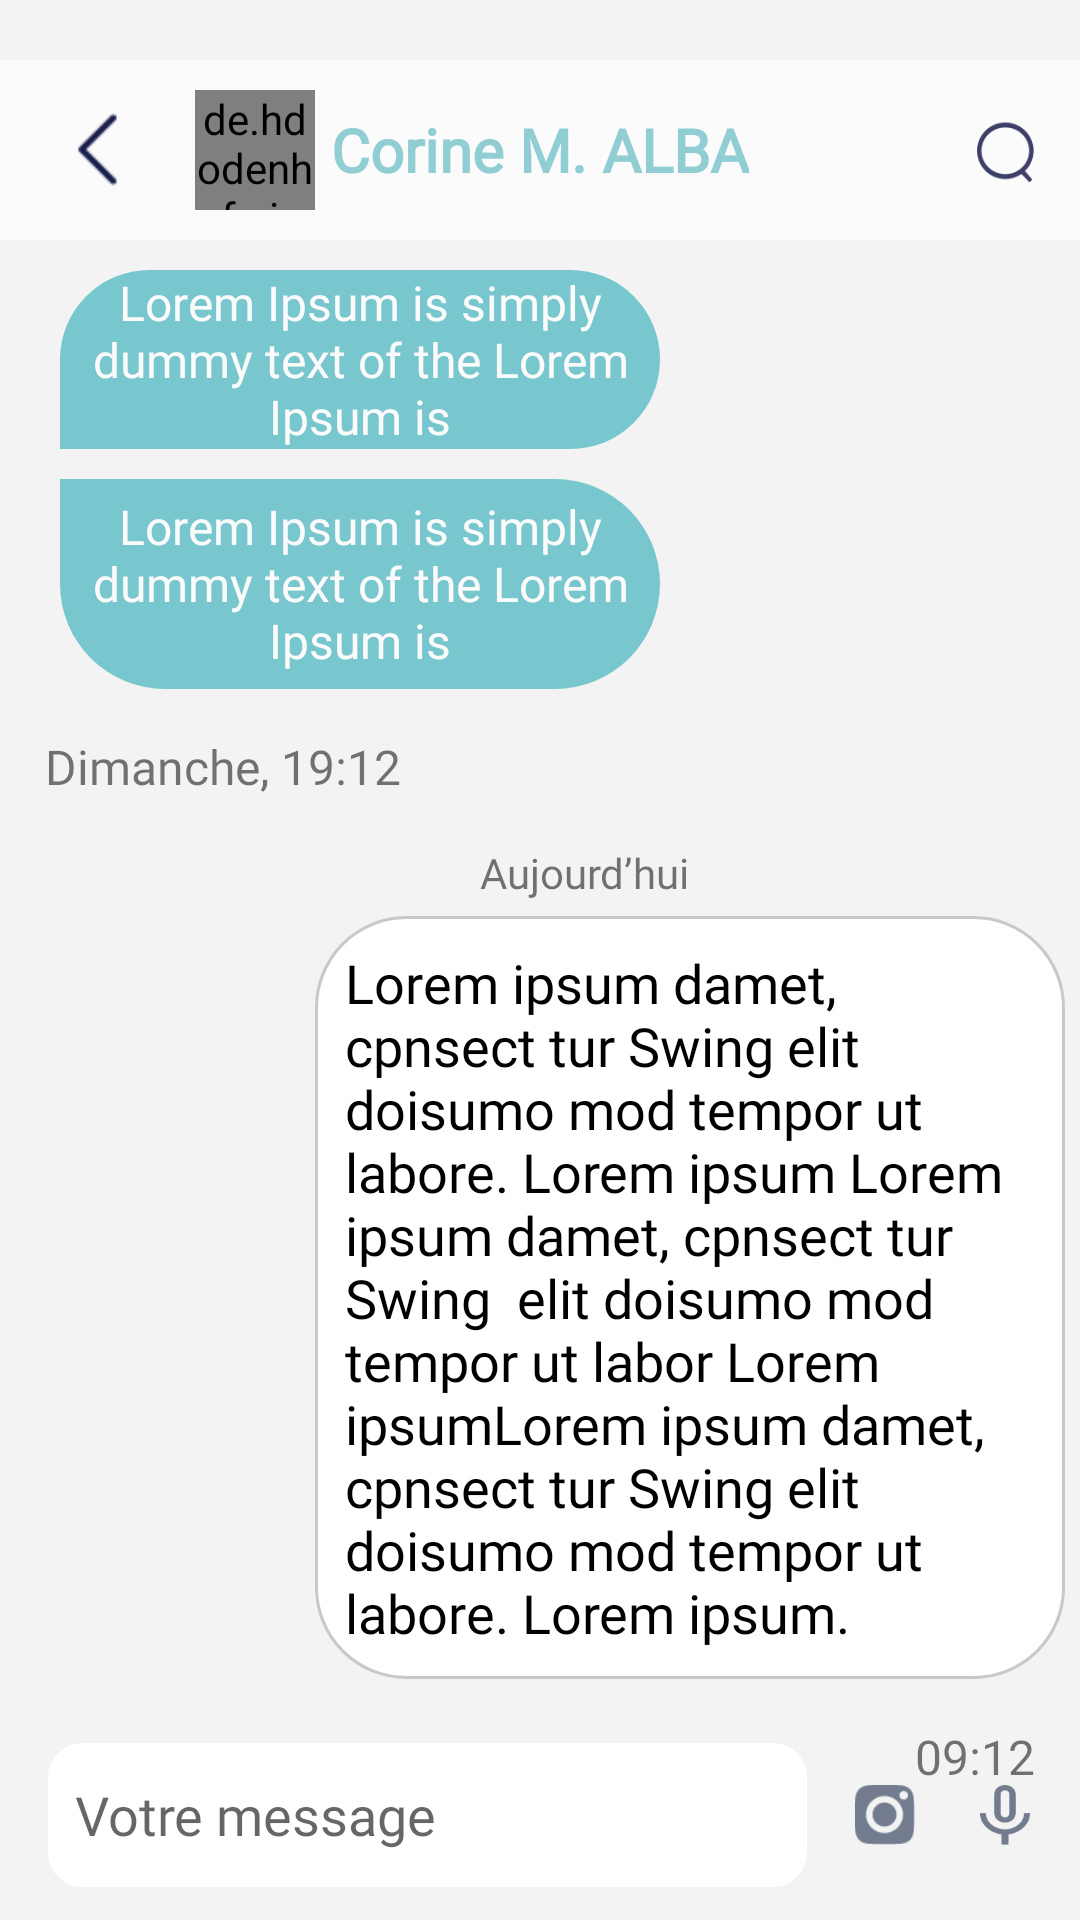

Where icons sit on this 1080w x 1920h app screen, as bbox=[x1, y1, x2, y2]:
blackback: bbox=[78, 113, 117, 186]
camara: bbox=[855, 1785, 915, 1845]
mic none: bbox=[972, 1770, 1030, 1845]
search: bbox=[977, 122, 1034, 182]
